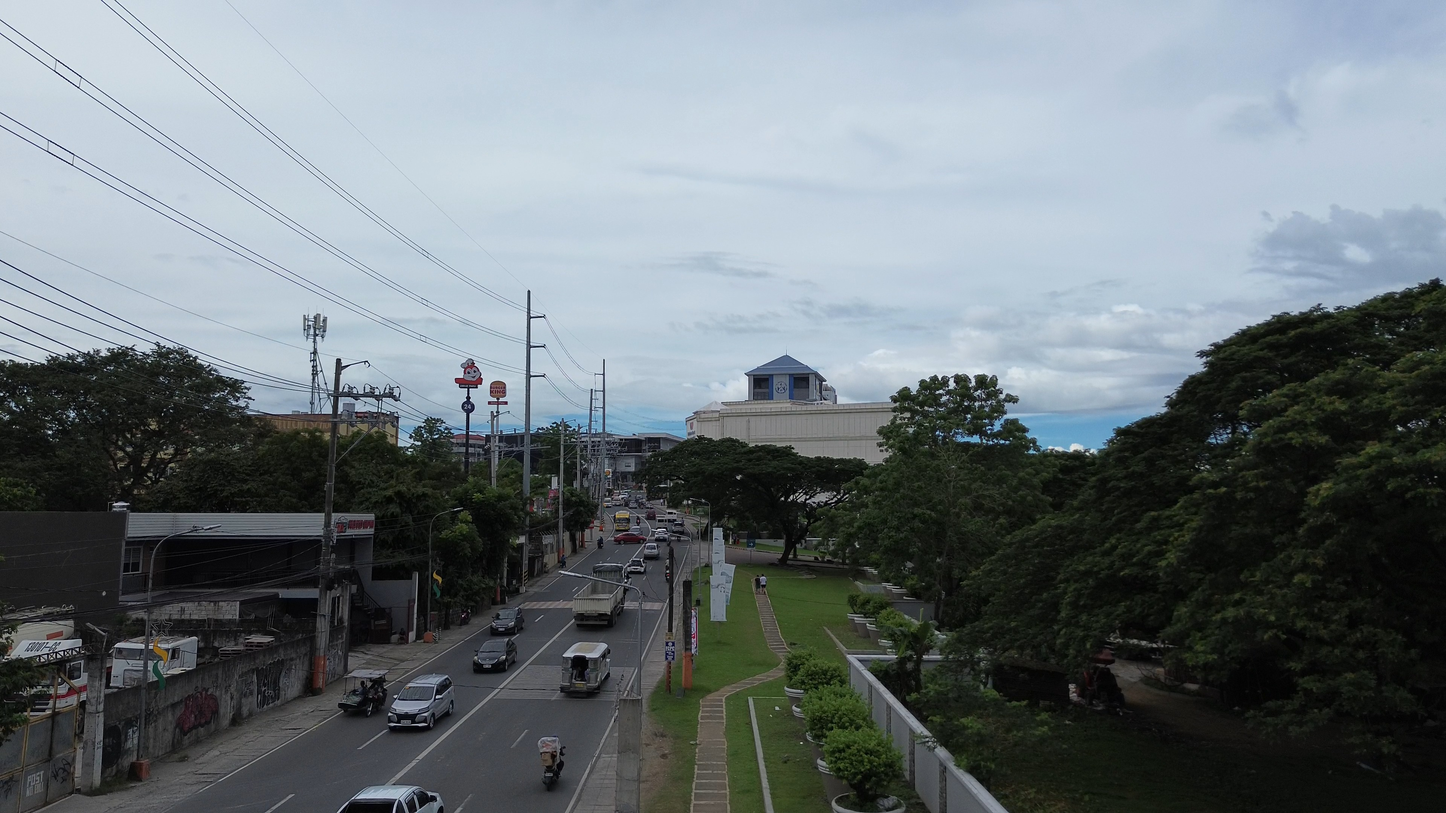bus: (614, 511, 630, 533)
car: (473, 638, 517, 672), (490, 608, 525, 635), (615, 531, 645, 544), (625, 558, 646, 574), (653, 527, 670, 542)
truck: (573, 563, 624, 627)
vehicle: (6, 639, 88, 716), (109, 636, 197, 688), (387, 674, 454, 729), (338, 785, 443, 813), (560, 642, 610, 693), (338, 669, 387, 717), (538, 737, 564, 790), (613, 510, 631, 531), (642, 542, 660, 559), (653, 527, 670, 542), (459, 608, 471, 624), (645, 509, 657, 521), (667, 509, 679, 519)
